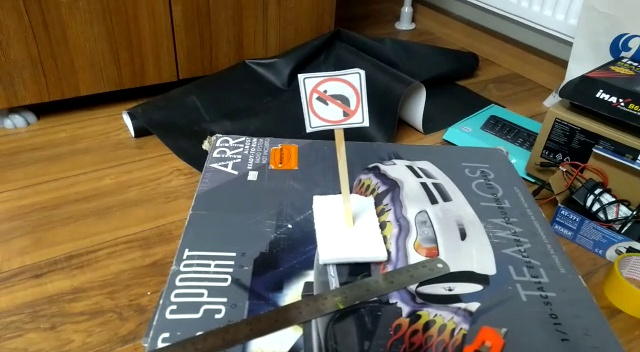sola_donulmez: (300, 75, 366, 123)
